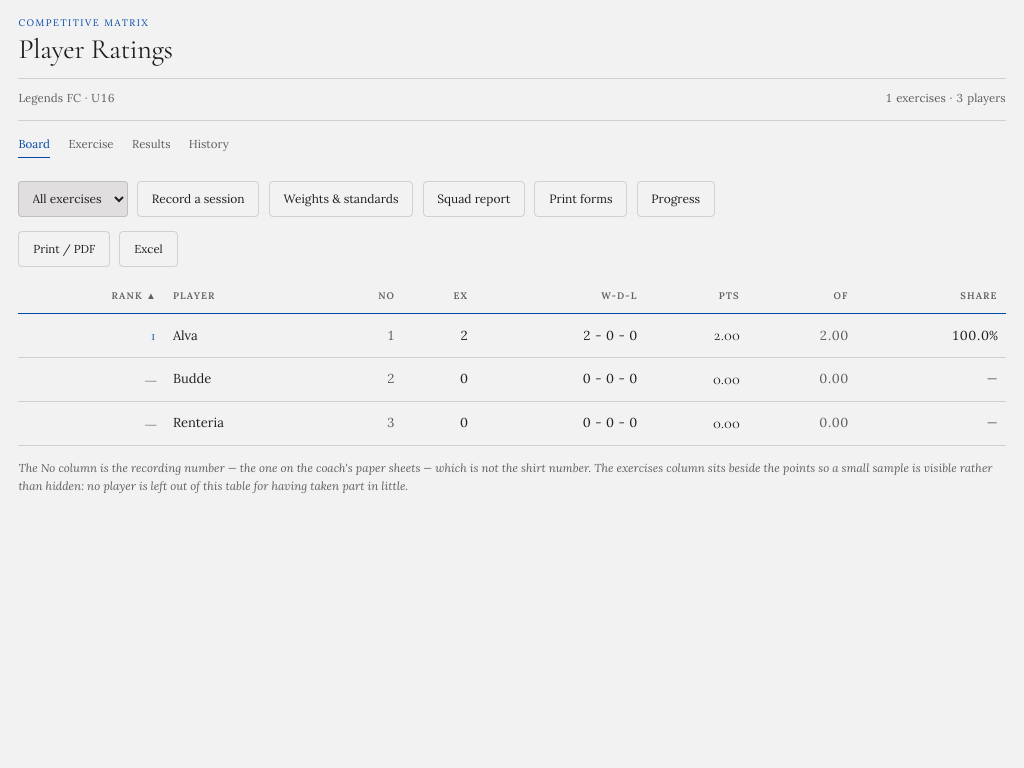
Test: recording a session › opens the record-a-1v1 screen on the chosen exercise
Step 1. Select "One v One" in the dropdown named "Exercise" → (73,199), box [18,181,128,217]
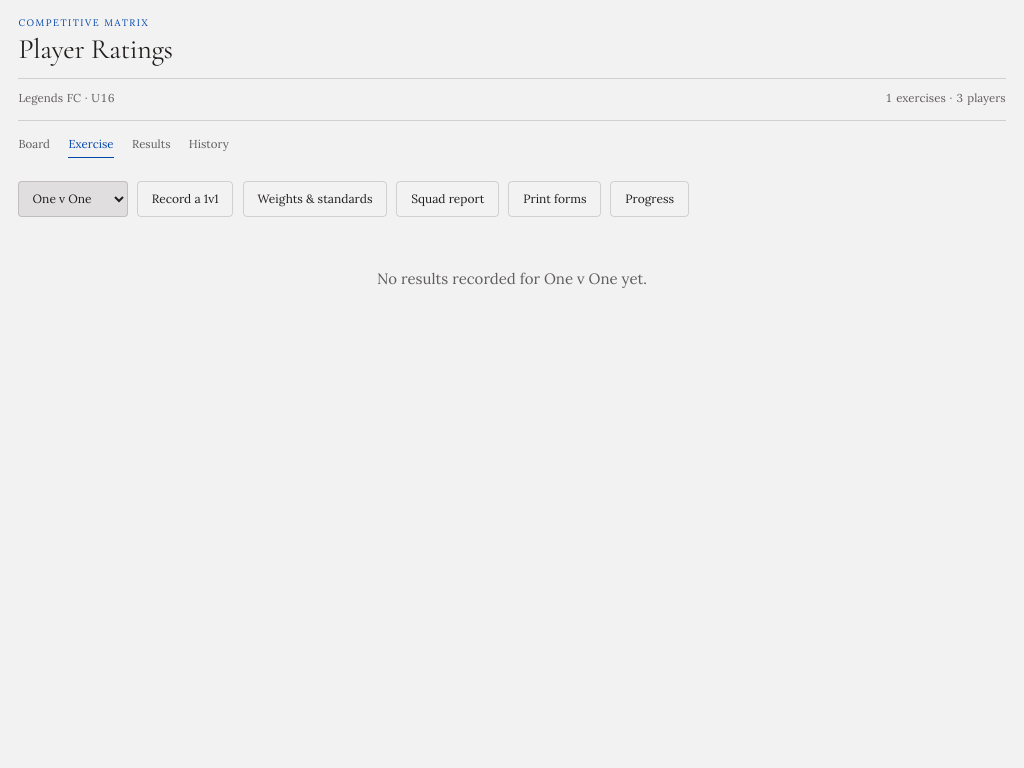
Step 2. Click the button "Record a 1v1" → (185,199), box [137,181,233,217]
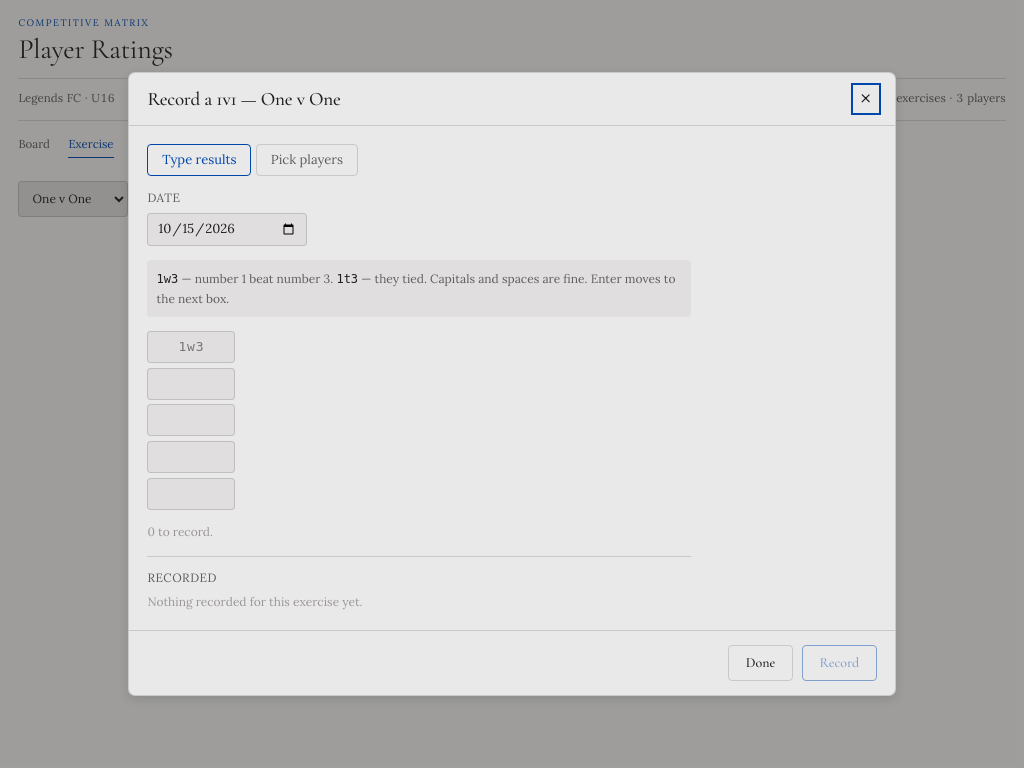
Expected: the field with placeholder "1w3" is shown, [147,331,235,363]
Expected: the button "Pick players" is shown, [256,144,358,176]
